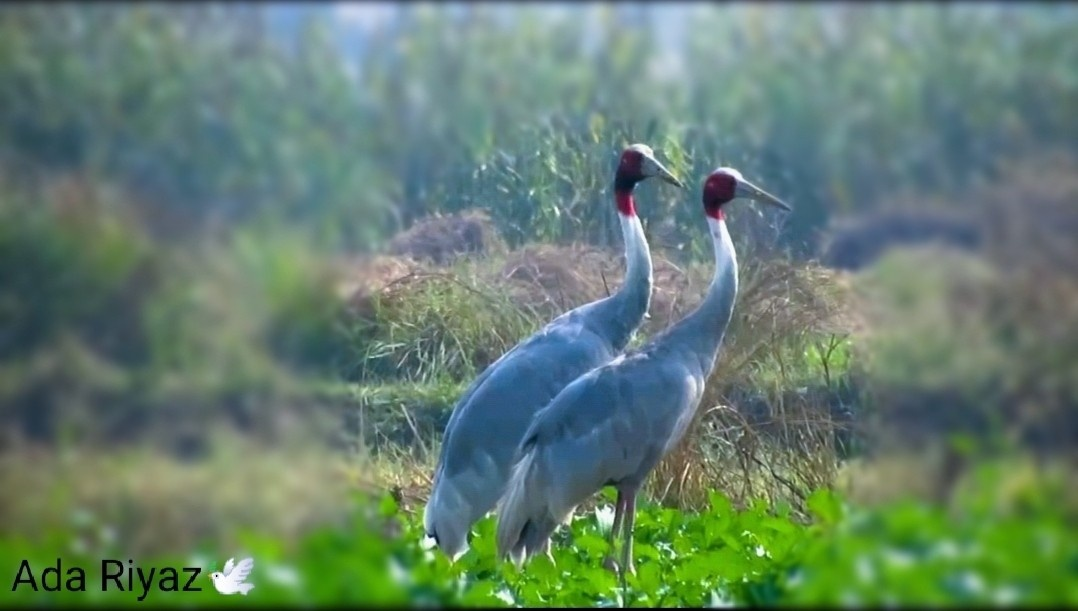crane: (508, 176, 806, 598), (420, 131, 678, 548)
